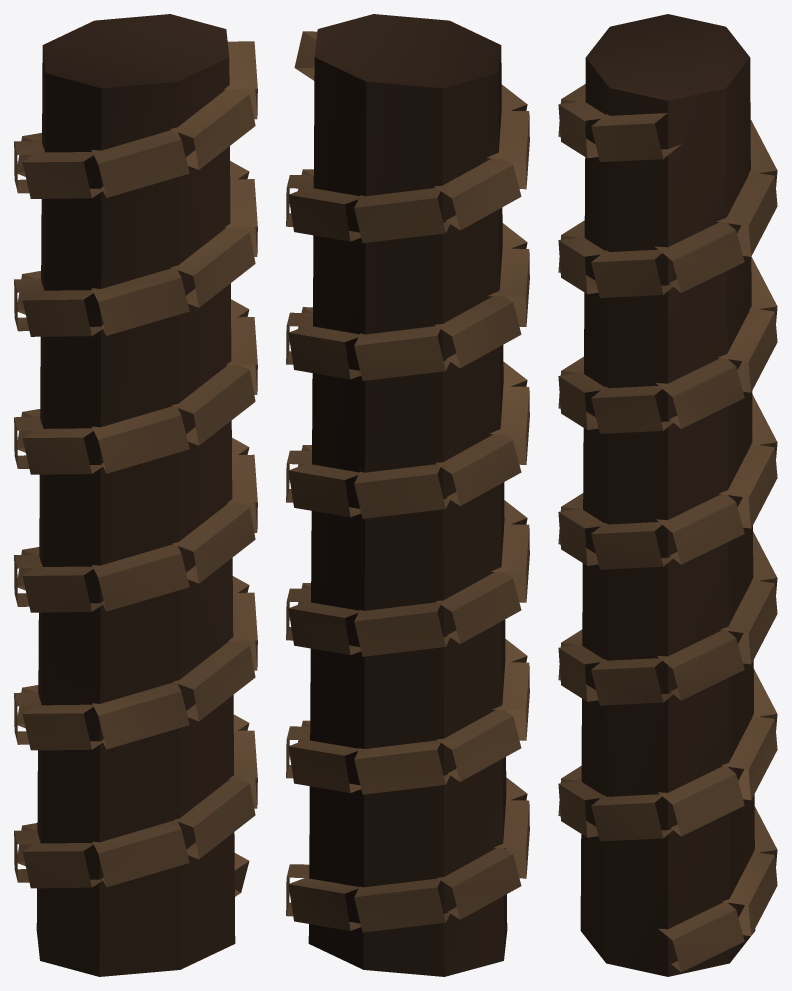
The model's file is sword_grip.glb.
The picture shows the model from 3 angles, left to right: view 1: azimuth 30°, elevation 25°; view 2: azimuth 150°, elevation 25°; view 3: azimuth 270°, elevation 25°; orthographic projection.
Visible parts, largest first — view 1: sword_grip; view 2: sword_grip; view 3: sword_grip.
Boxes of the visible parts, x1,y1,x2,y2 form: sword_grip: (14,14,257,976); sword_grip: (286,14,529,976); sword_grip: (558,14,777,976).
Bounding box in the file's own units: 0.041 × 0.15 × 0.0341.
